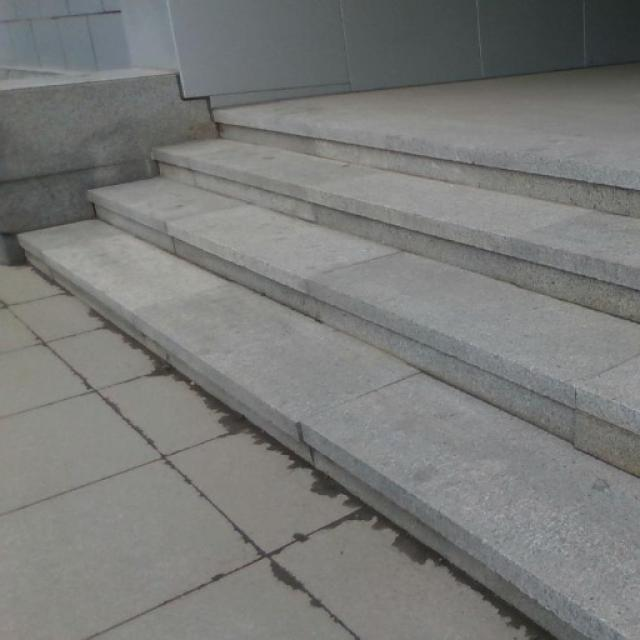Stairs: (14, 85, 638, 639)
